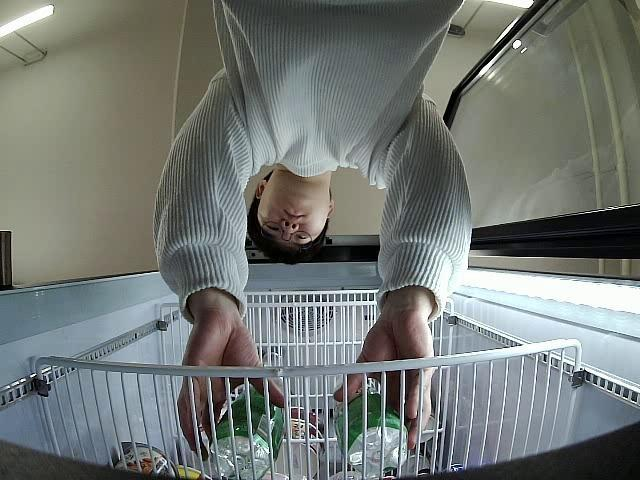18_trevi: (204, 382, 285, 480), (332, 385, 408, 480)
